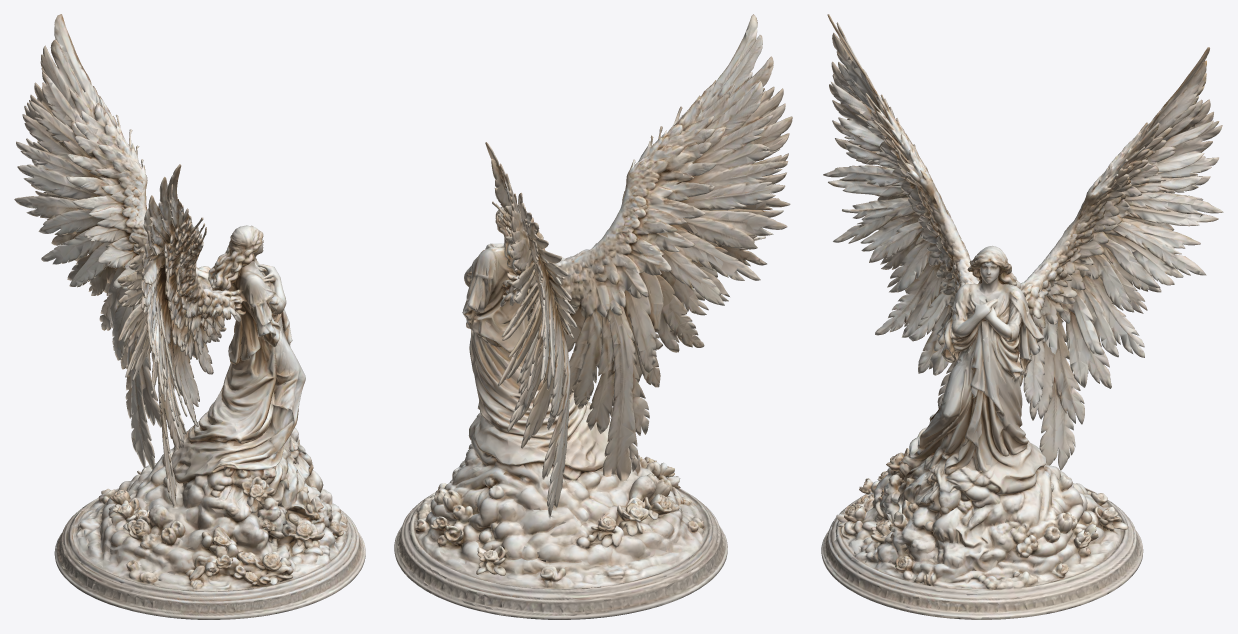
File: anjo_estatua.glb
3 views of the same model, side by side, from view 1: azimuth 30°, elevation 25°; view 2: azimuth 150°, elevation 25°; view 3: azimuth 270°, elevation 25° (orthographic). The views are drawn at different scales.
Visible parts, largest first — view 1: tripo_node_995bd364; view 2: tripo_node_995bd364; view 3: tripo_node_995bd364.
Part boxes in pixels (x1,y1,x2,y2): tripo_node_995bd364: (14,14,365,619); tripo_node_995bd364: (394,14,792,619); tripo_node_995bd364: (821,14,1223,619).
Size of the model in its own units: 0.6381 by 0.9999 by 0.7505.
1 material, 1 textured.
